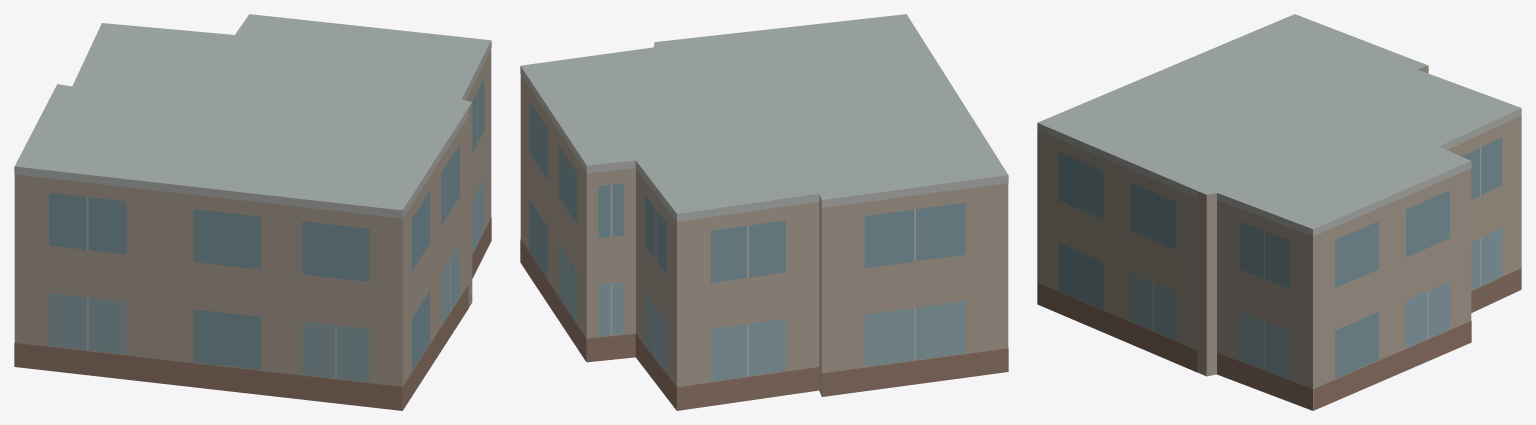
File: survey-upis-32561860.glb
The picture shows the model from 3 angles, left to right: view 1: azimuth 30°, elevation 25°; view 2: azimuth 150°, elevation 25°; view 3: azimuth 270°, elevation 25°; orthographic projection. The views are drawn at different scales.
Parts seen in each view (by area): view 1: survey-upis-32561860.tmp; view 2: survey-upis-32561860.tmp; view 3: survey-upis-32561860.tmp.
Boxes of the visible parts, bbox=[...] form: survey-upis-32561860.tmp: bbox=[14, 14, 491, 410]; survey-upis-32561860.tmp: bbox=[520, 14, 1008, 410]; survey-upis-32561860.tmp: bbox=[1037, 14, 1521, 410].
Bounding box in the file's own units: 15.52 × 6.1 × 14.75.
